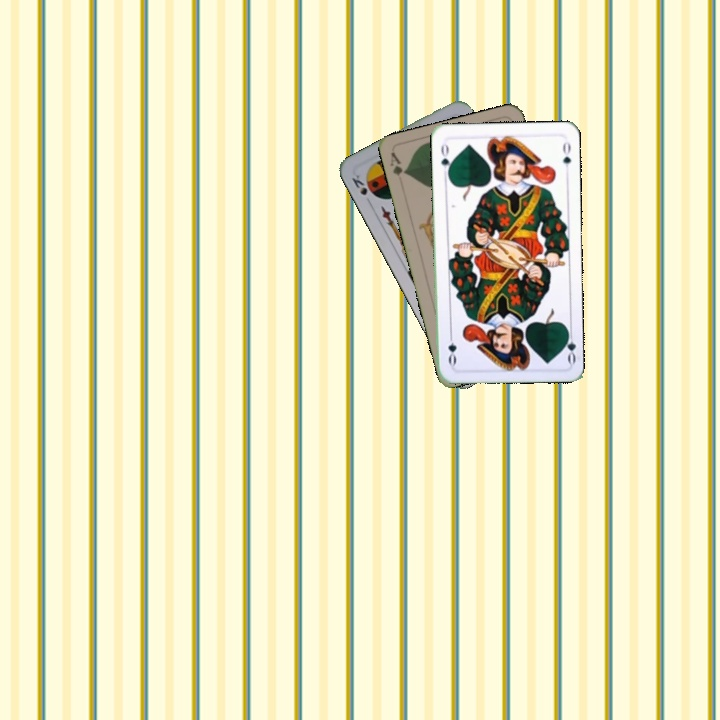GA: (386, 149, 409, 179)
GO: (559, 325, 578, 365), (437, 139, 454, 179)
SK: (348, 170, 374, 208)
